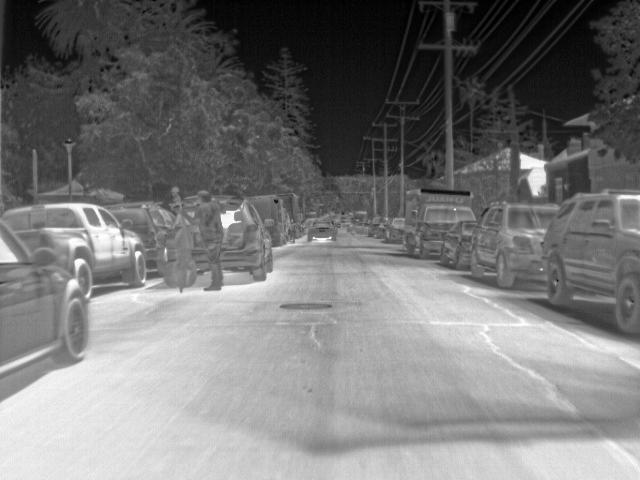car: (538, 188, 640, 338), (2, 215, 92, 384), (3, 200, 147, 301), (470, 204, 563, 290), (99, 196, 179, 273), (218, 191, 274, 281), (440, 222, 478, 271), (305, 218, 337, 244), (384, 218, 407, 246), (367, 216, 387, 240)
person: (182, 190, 224, 291)
